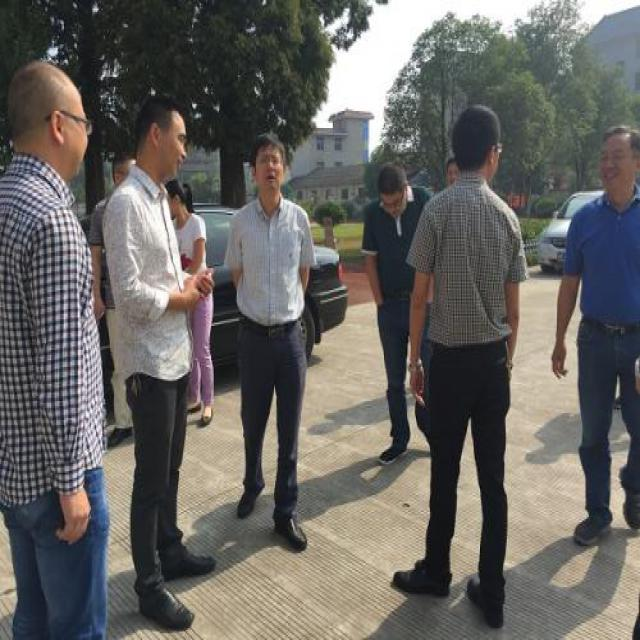head: (8, 51, 94, 184), (129, 91, 190, 182), (449, 102, 503, 187), (593, 123, 639, 203), (248, 127, 289, 206), (372, 156, 411, 213), (110, 143, 137, 208), (160, 175, 188, 228)
person: (99, 93, 227, 637), (404, 97, 528, 640), (9, 59, 114, 627), (217, 129, 328, 566), (547, 121, 640, 556), (360, 157, 430, 475)
